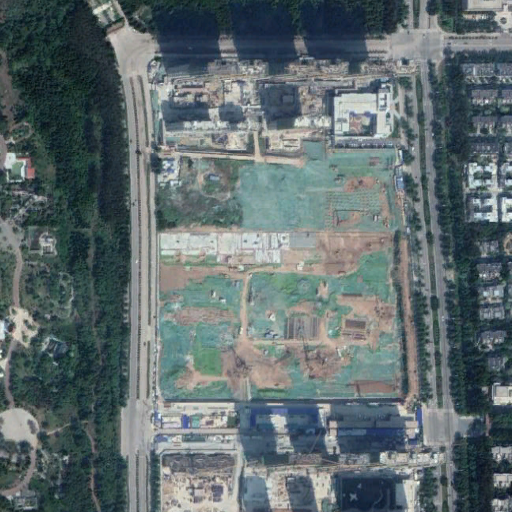cw: (155, 141, 407, 398)
